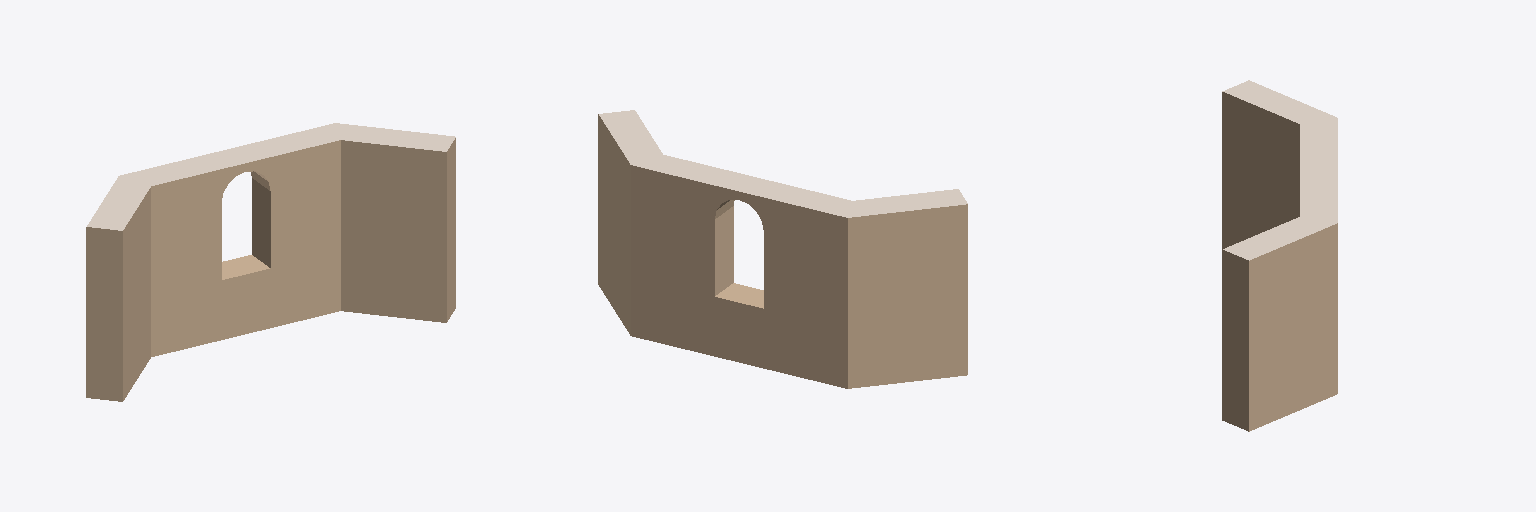
File: Tower_Wall_Normal_Window.obj
The picture shows the model from 3 angles: view 1: azimuth 30°, elevation 25°; view 2: azimuth 150°, elevation 25°; view 3: azimuth 270°, elevation 25°; orthographic projection.
Visible parts, largest first — view 1: object1; view 2: object1; view 3: object1.
Part boxes in pixels (x1,y1,x2,y2): object1: (86,123,455,401); object1: (598,110,967,388); object1: (1222,80,1337,431).
Bounding box in the file's own units: 2.26 × 1 × 0.6101.